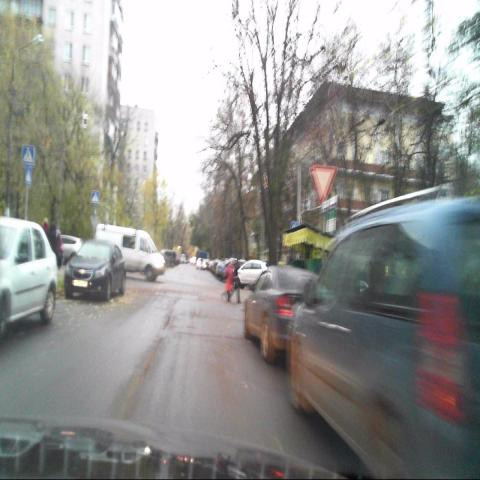2_4: (313, 165, 337, 203)
